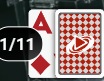a: (29, 10, 54, 36)
